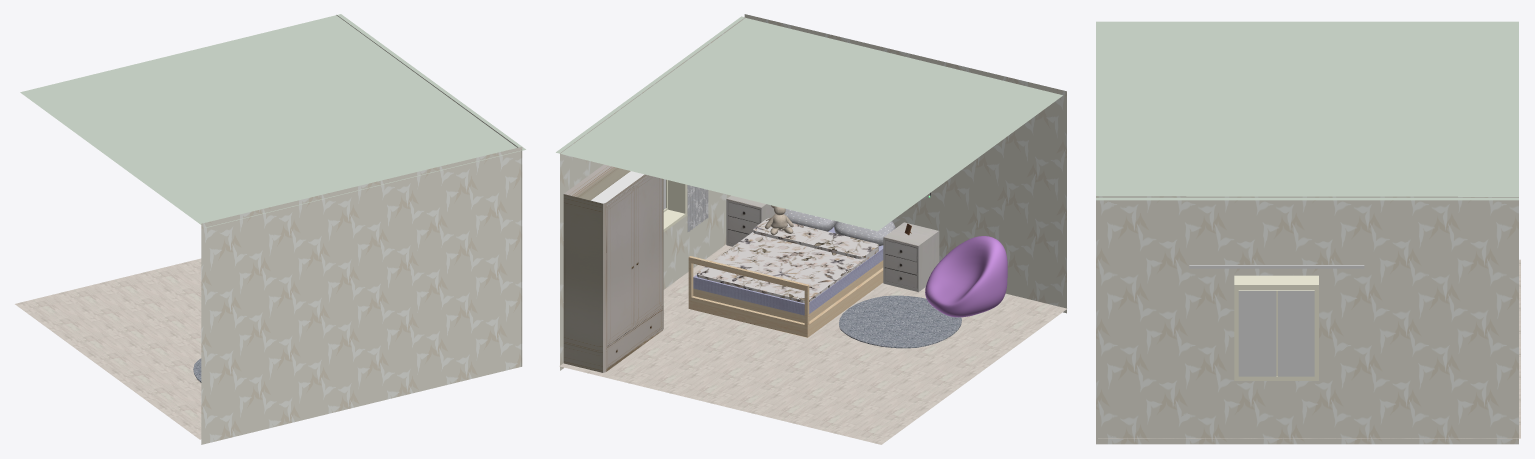
Rendered from room4.fbx.
3 renders of one model, left to right at view 1: azimuth 30°, elevation 25°; view 2: azimuth 150°, elevation 25°; view 3: azimuth 270°, elevation 25°, orthographic. The views are drawn at different scales.
Parts seen in each view (by area): view 1: Plane.001, Plane.003, Plane, Plane.002; view 2: Plane.003, Plane, Plane.001, Cube, Cube.006, Cube.002, Plane.002, Cube.019, Plane.004, Cube.003, Cube.001, Cube.007 (+4 smaller); view 3: Plane.002, Plane.003, Cube.007, Plane, Cube.009.
Part boxes in pixels (x1,y1,x2,y2): Plane.001: (201,147,522,444); Plane.003: (20,14,525,227); Plane: (15,258,201,439); Plane.002: (336,15,521,366); Plane.003: (556,16,1062,231); Plane: (559,244,1067,444); Plane.001: (744,14,1066,313); Cube: (563,164,663,372); Cube.006: (697,218,878,302); Cube.002: (688,227,883,337); Plane.002: (560,17,745,370); Cube.019: (925,236,1007,317); Plane.004: (839,295,961,348); Cube.003: (883,222,939,292); Cube.001: (726,195,775,246); Cube.007: (663,179,686,231); Plane.002: (1096,196,1518,444); Plane.003: (1096,21,1518,200); Cube.007: (1234,275,1318,380); Plane: (1098,259,1520,438); Cube.009: (1189,265,1364,268).
Size of the model in its own units: 420 by 262 by 400.
Materials: 24 (11 with a texture image).
